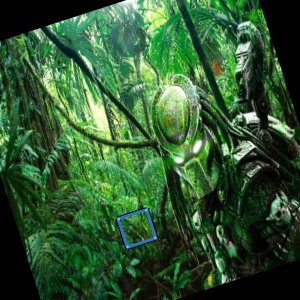square: (115, 206, 158, 249)
